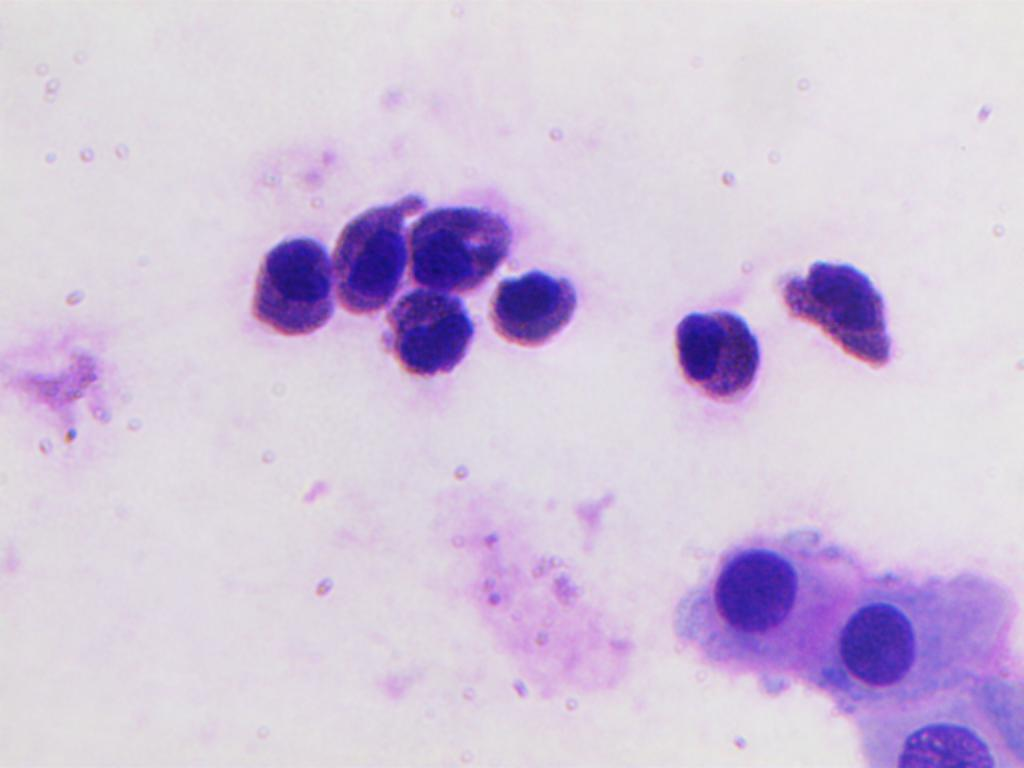eosinophil: (774, 232, 920, 396), (248, 194, 333, 367), (665, 289, 769, 420), (486, 254, 590, 370), (329, 176, 408, 315), (405, 189, 504, 287), (382, 297, 476, 374)
epithelial: (675, 504, 814, 683), (819, 574, 972, 691)
